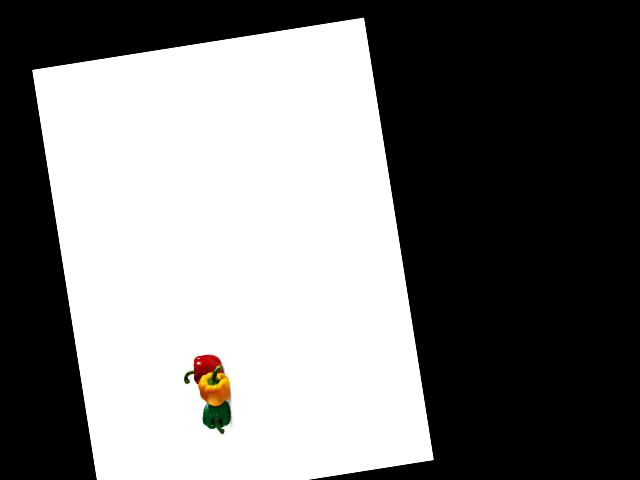bell_pepper: (197, 395, 236, 435)
